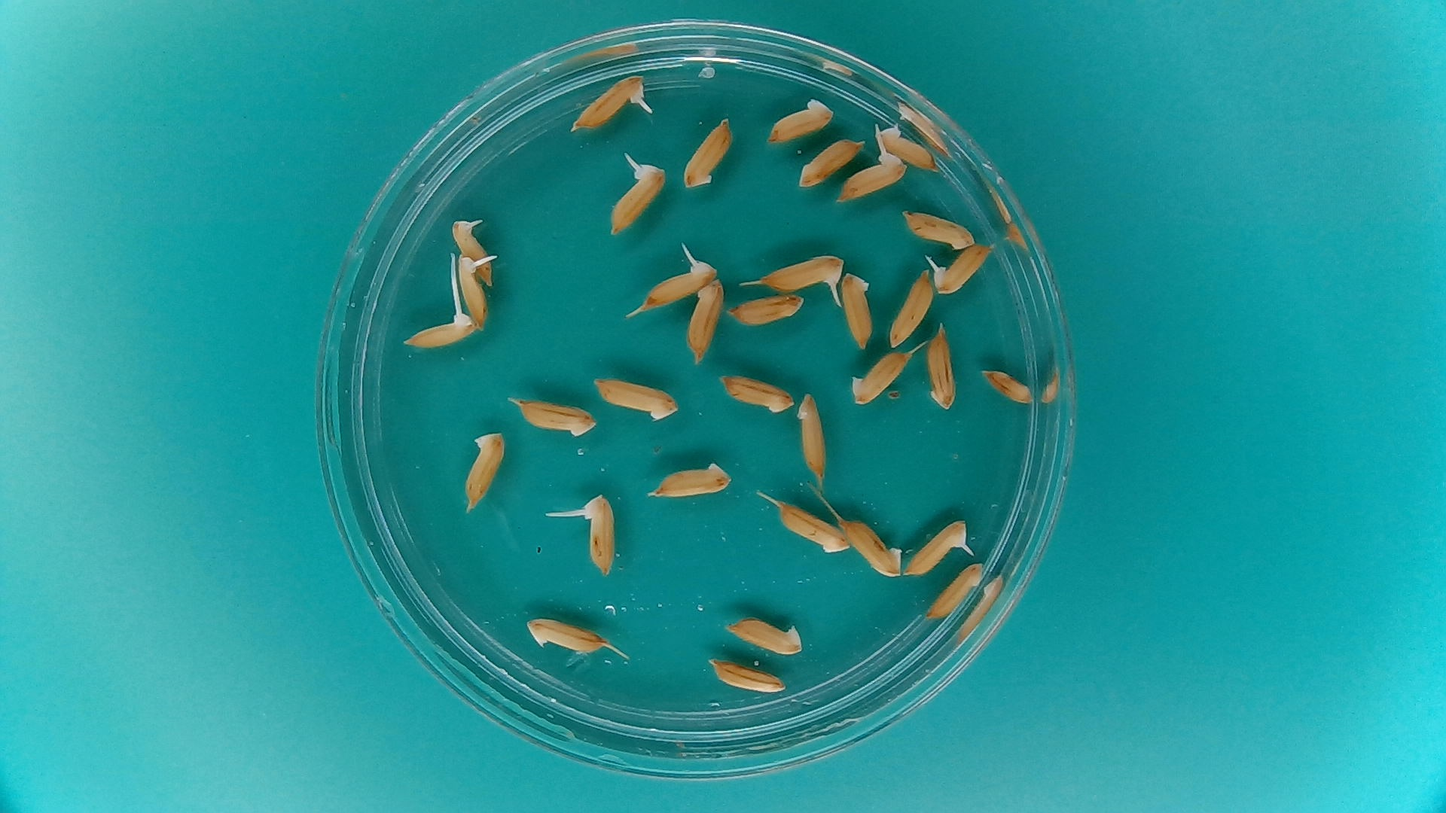no: (590, 373, 679, 424), (507, 394, 602, 440), (774, 498, 850, 555), (460, 427, 508, 514), (682, 115, 735, 192), (847, 348, 915, 407), (888, 264, 935, 349), (923, 560, 986, 623), (646, 457, 734, 501), (796, 135, 866, 190), (843, 517, 905, 578), (684, 275, 725, 366), (721, 613, 805, 657), (523, 614, 609, 656), (764, 94, 836, 144), (797, 391, 834, 488), (719, 370, 795, 416), (703, 656, 787, 696), (874, 122, 941, 172), (900, 207, 976, 250), (923, 322, 957, 414), (840, 269, 875, 351), (728, 291, 807, 327), (978, 365, 1035, 405)
yes: (571, 75, 644, 131), (905, 518, 969, 578), (609, 166, 668, 231), (642, 257, 712, 310), (929, 242, 995, 295), (834, 152, 905, 201), (450, 217, 498, 286), (762, 255, 845, 294), (407, 312, 479, 352), (579, 495, 615, 574), (457, 251, 491, 324)
